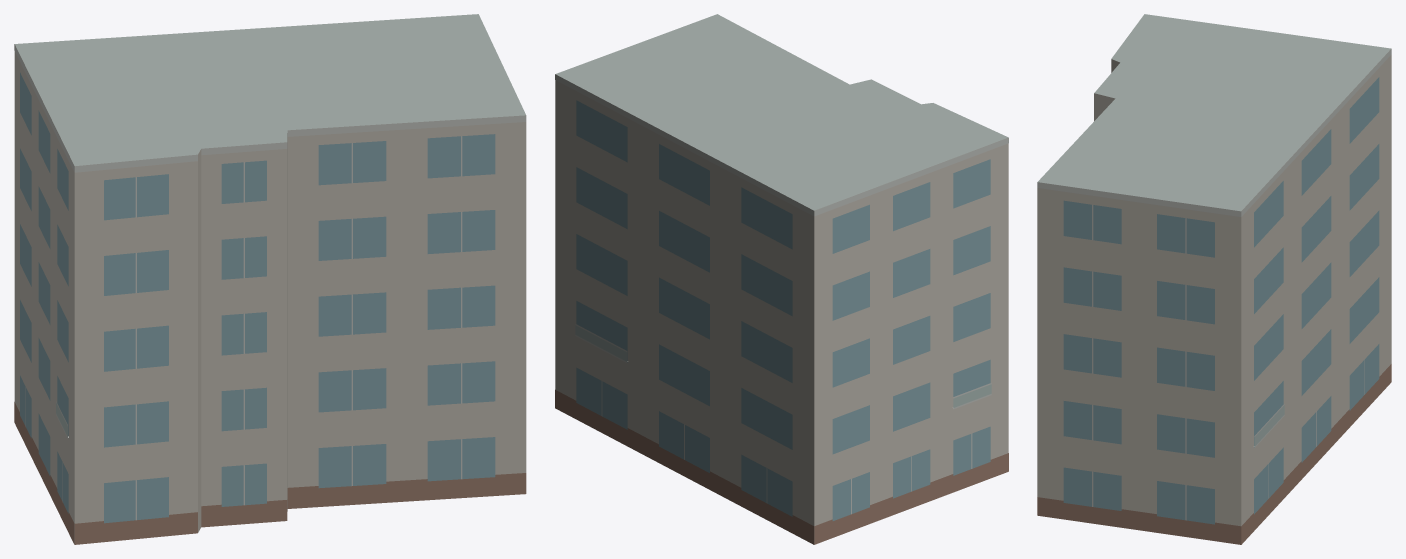
The model's file is survey-upis-32884106.glb.
The picture shows the model from 3 angles, left to right: view 1: azimuth 30°, elevation 25°; view 2: azimuth 150°, elevation 25°; view 3: azimuth 270°, elevation 25°; orthographic projection. The views are drawn at different scales.
Visible parts, largest first — view 1: survey-upis-32884106.tmp; view 2: survey-upis-32884106.tmp; view 3: survey-upis-32884106.tmp.
Part boxes in pixels (x1,y1,x2,y2): survey-upis-32884106.tmp: [14, 14, 526, 544]; survey-upis-32884106.tmp: [555, 14, 1008, 544]; survey-upis-32884106.tmp: [1037, 14, 1391, 544].
Size of the model in its own units: 17.9 by 14.1 by 13.58.
